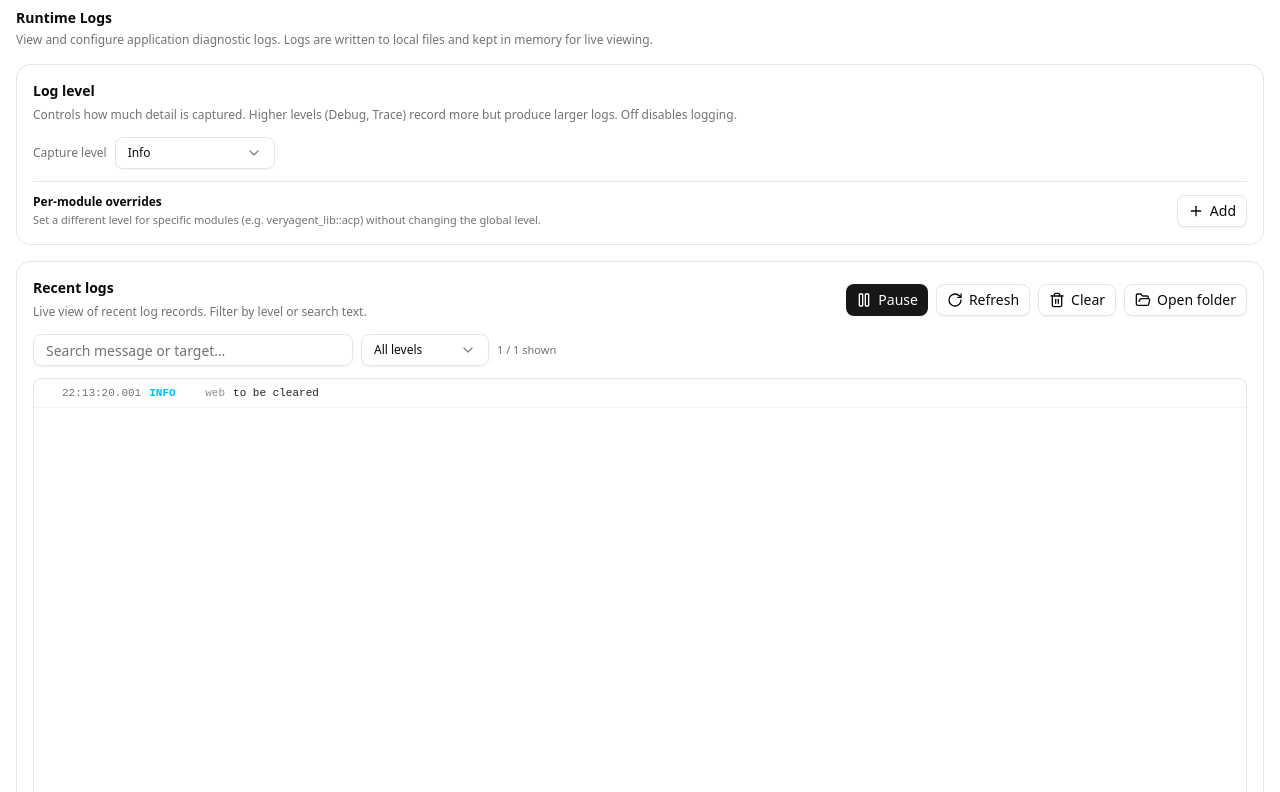
Test: LogsSettings › clears the view
Check: the text "to be cleared" is shown, box [233,383,319,403]
Click the button "Clear": coordinates (1077, 300) [1038,284,1116,316]
(page scrolled)
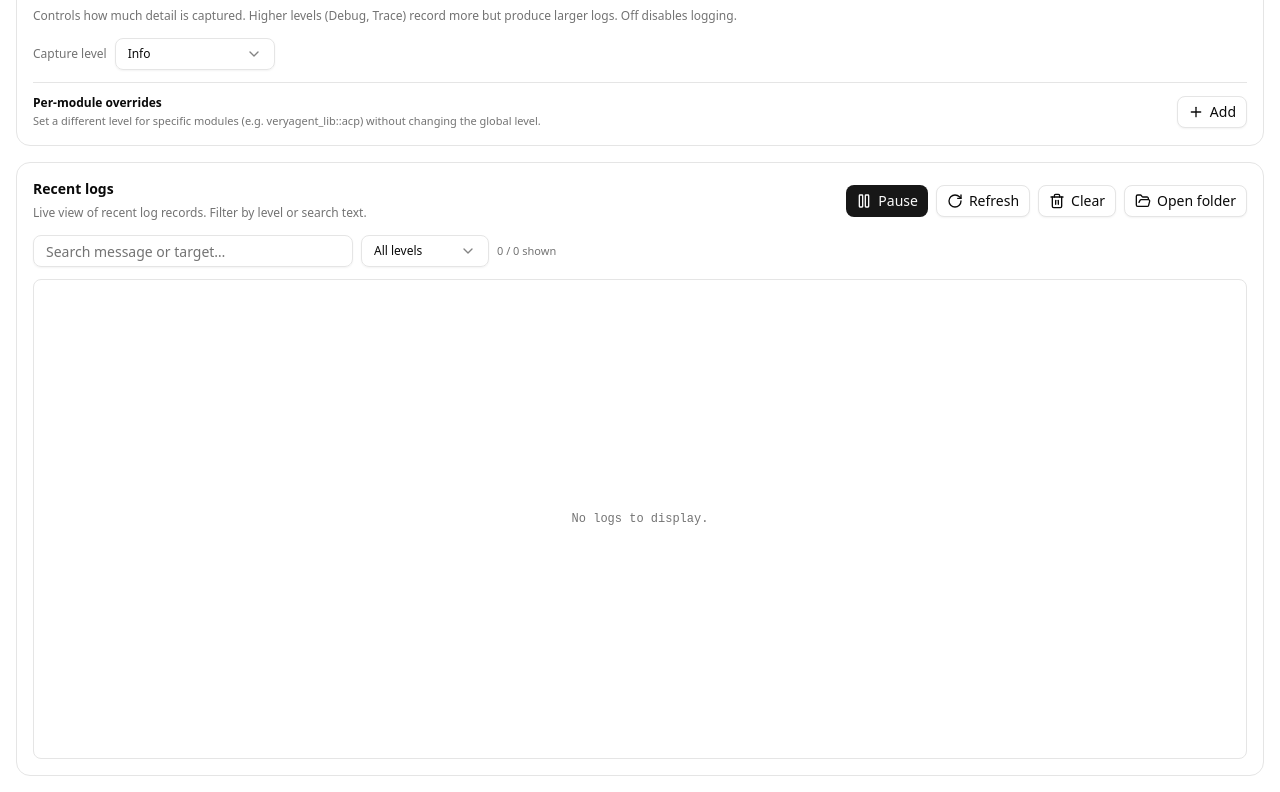
Check: the text "to be cleared" is gone
Check: the text "No logs to display." is shown, box [572,512,708,526]
